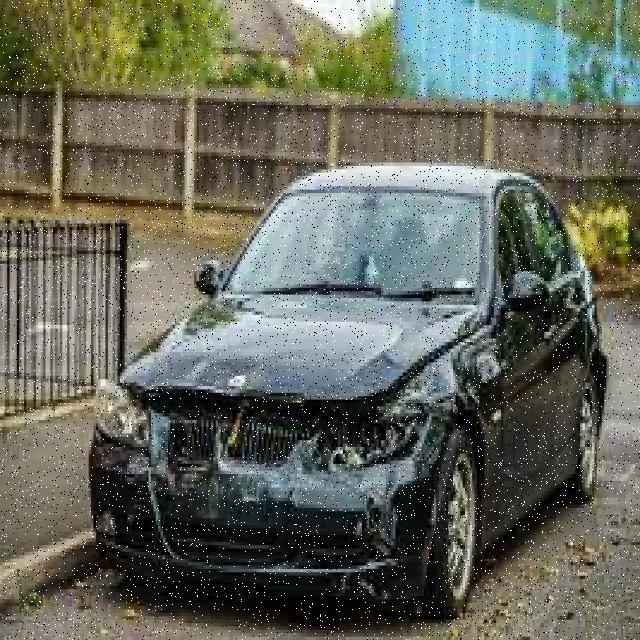bonnet-dent: (120, 291, 477, 410)
front-bumper-dent: (86, 437, 432, 582)
